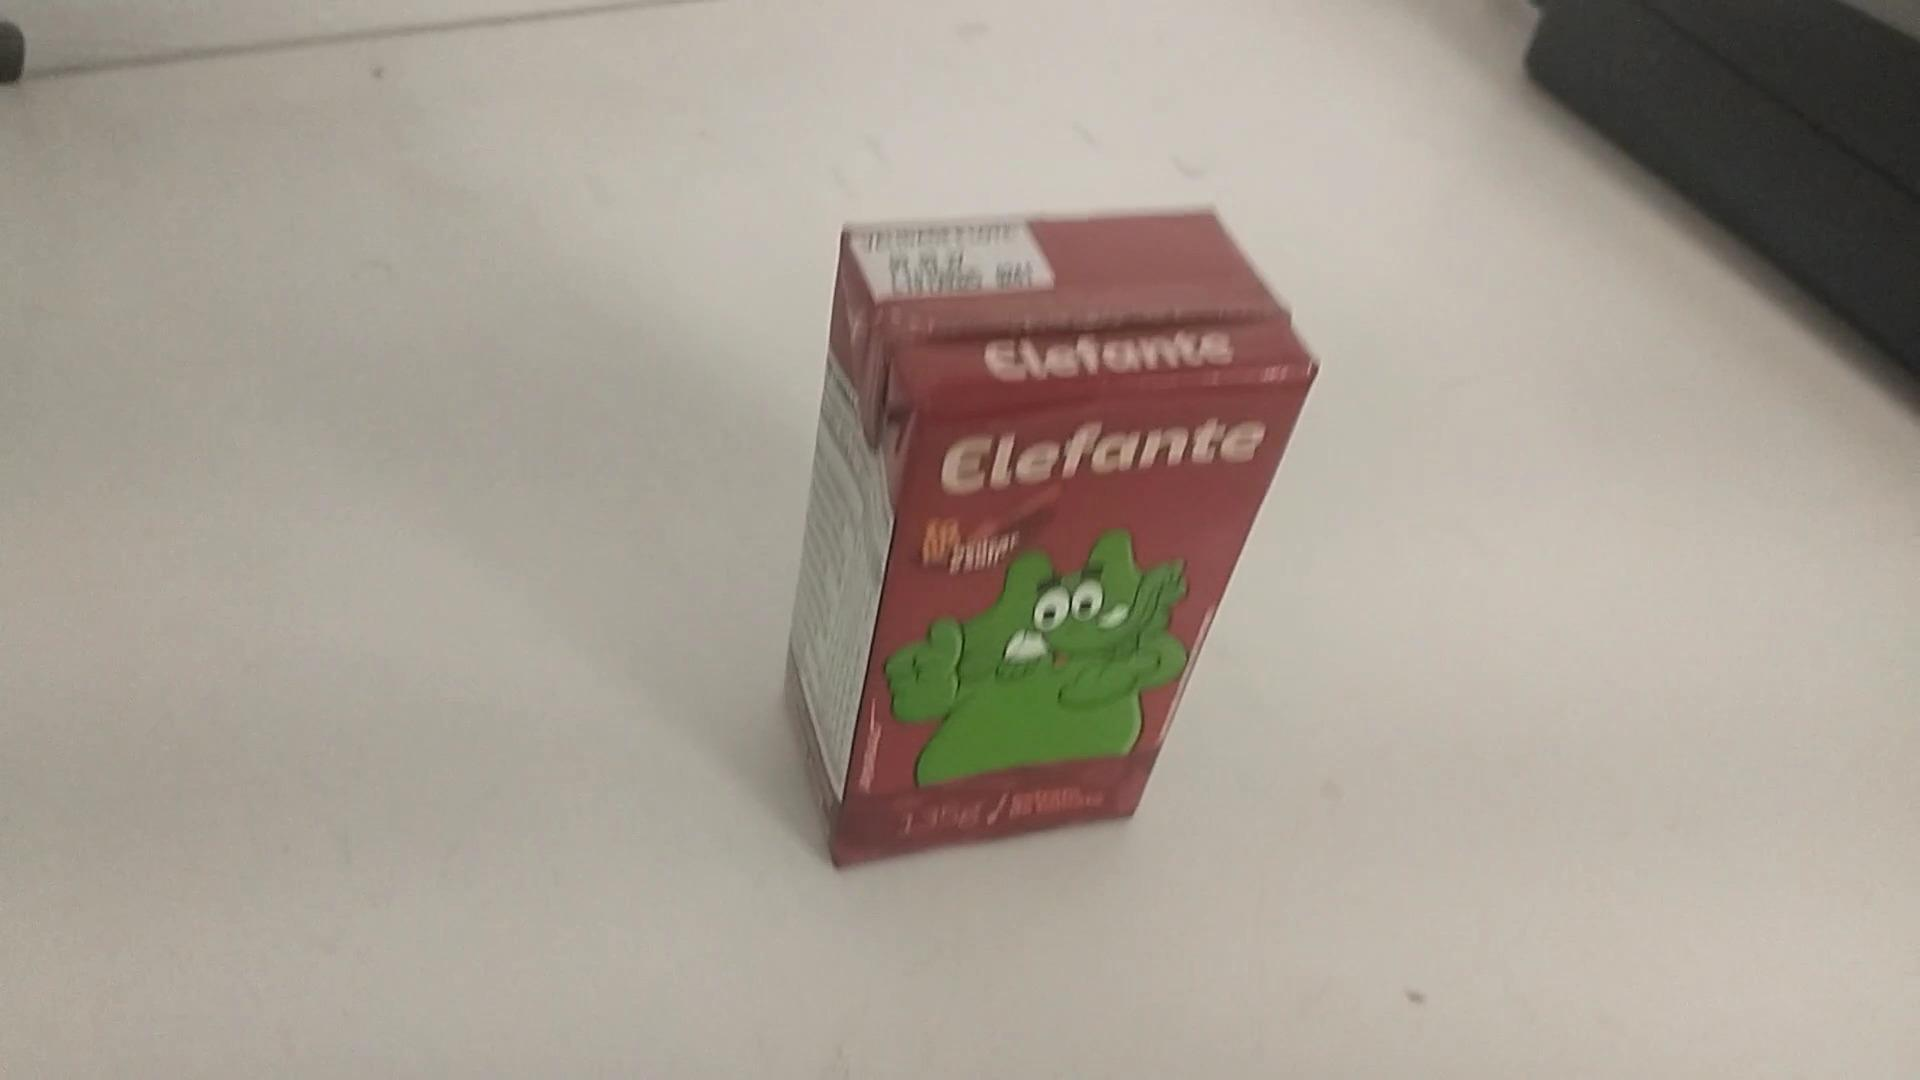tomate: (767, 185, 1328, 873)
